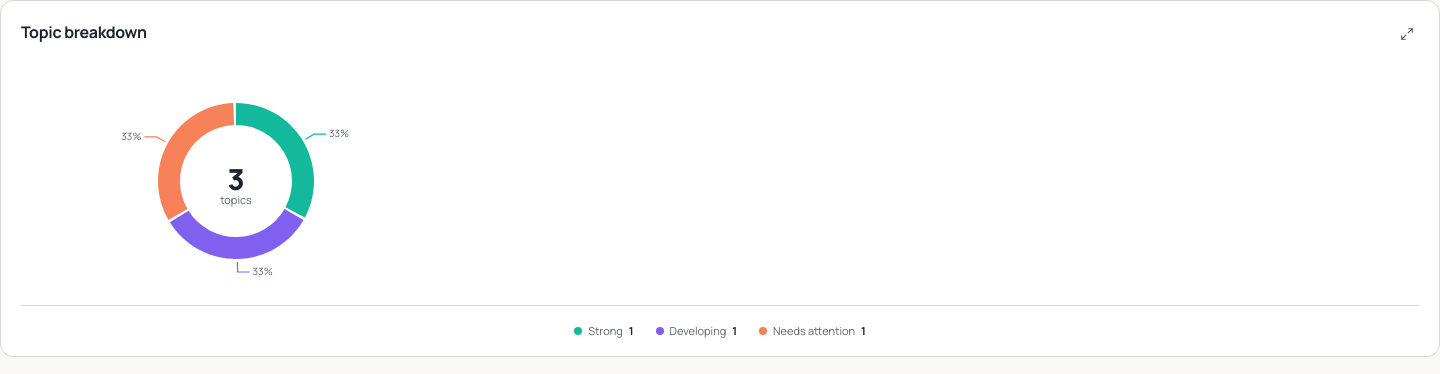
it: opens the selected category inside its own card and returns to the chart
The image size is (1440, 374).
Later steps or results of the test are not shown.
Expected: the button with aria-label "Strong: 1 topics" is shown, [568,316,640,346]
Click the button with aria-label "Needs attention: 1 topics": point(812, 331) [753,316,872,346]
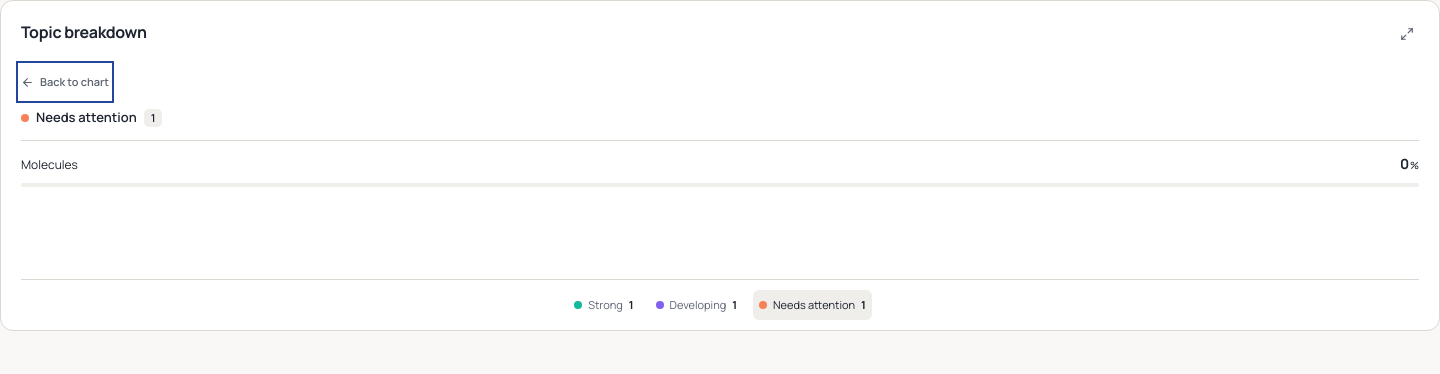
Expected: the element named "Needs attention topics" does not show "Cells", [21,140,1419,198]
Now the element named "Needs attention topics" shows "Molecules", box [21,156,78,172]
Now the element named "Needs attention topics" shows "0%", box [21,140,1419,198]
